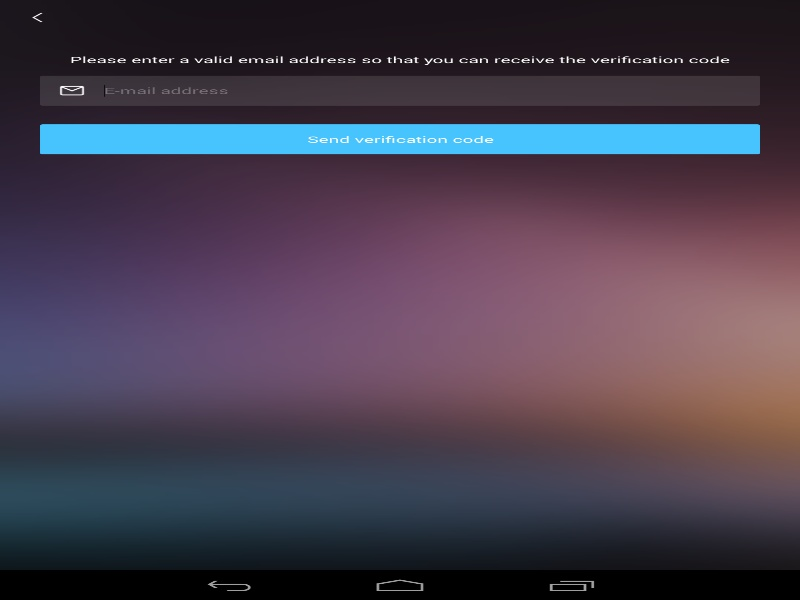Input: (104, 75, 760, 105)
